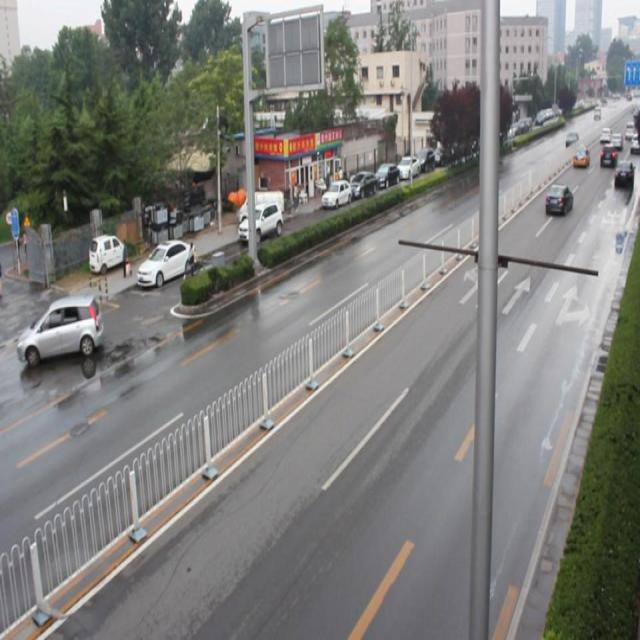car: (543, 182, 572, 214)
